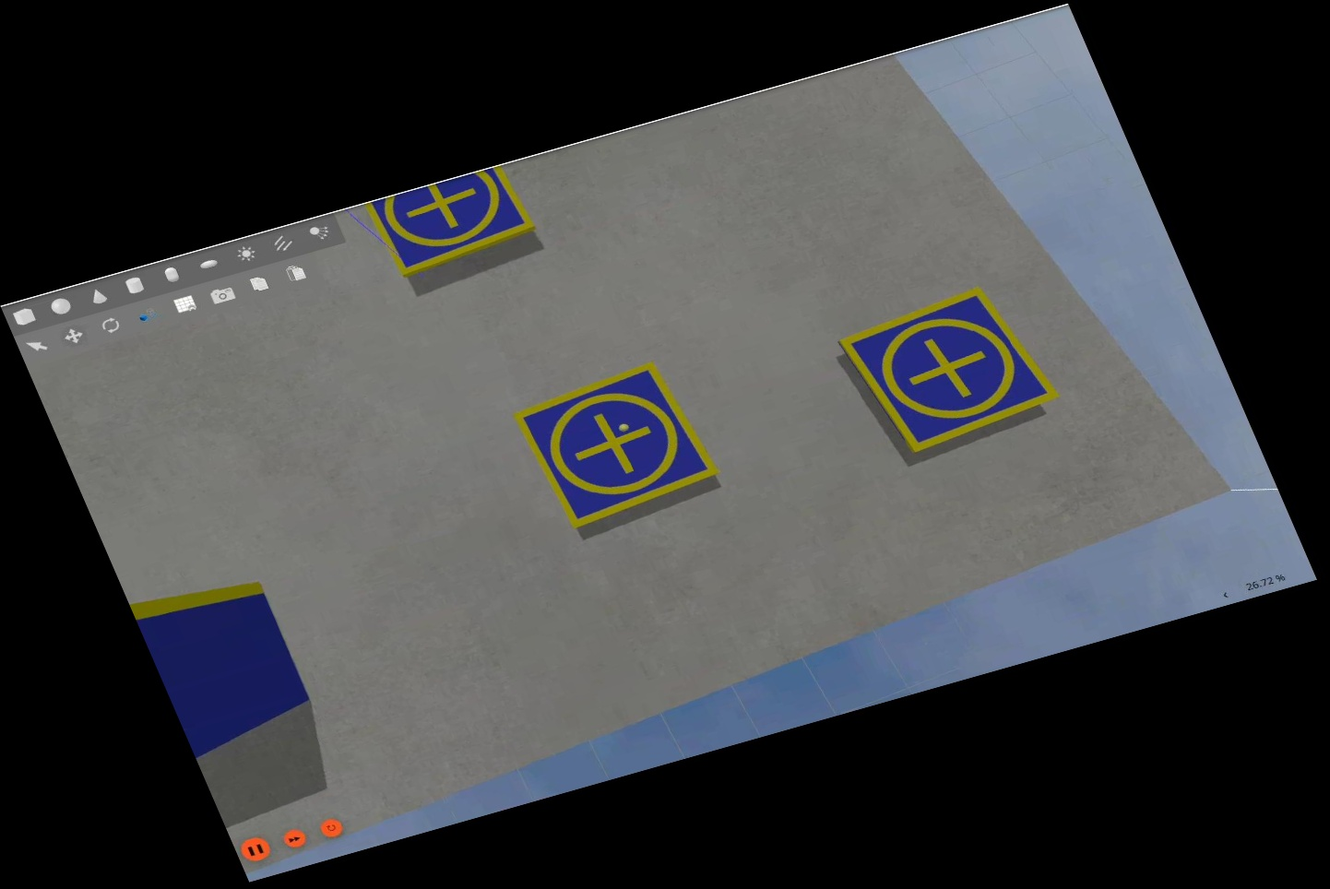small_base: (831, 278, 1067, 462), (508, 357, 727, 535), (363, 161, 541, 280)
